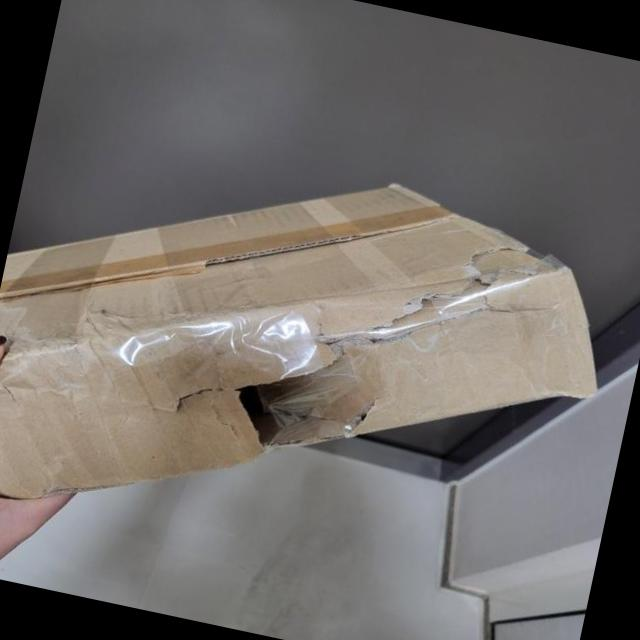box: (5, 1, 634, 607)
